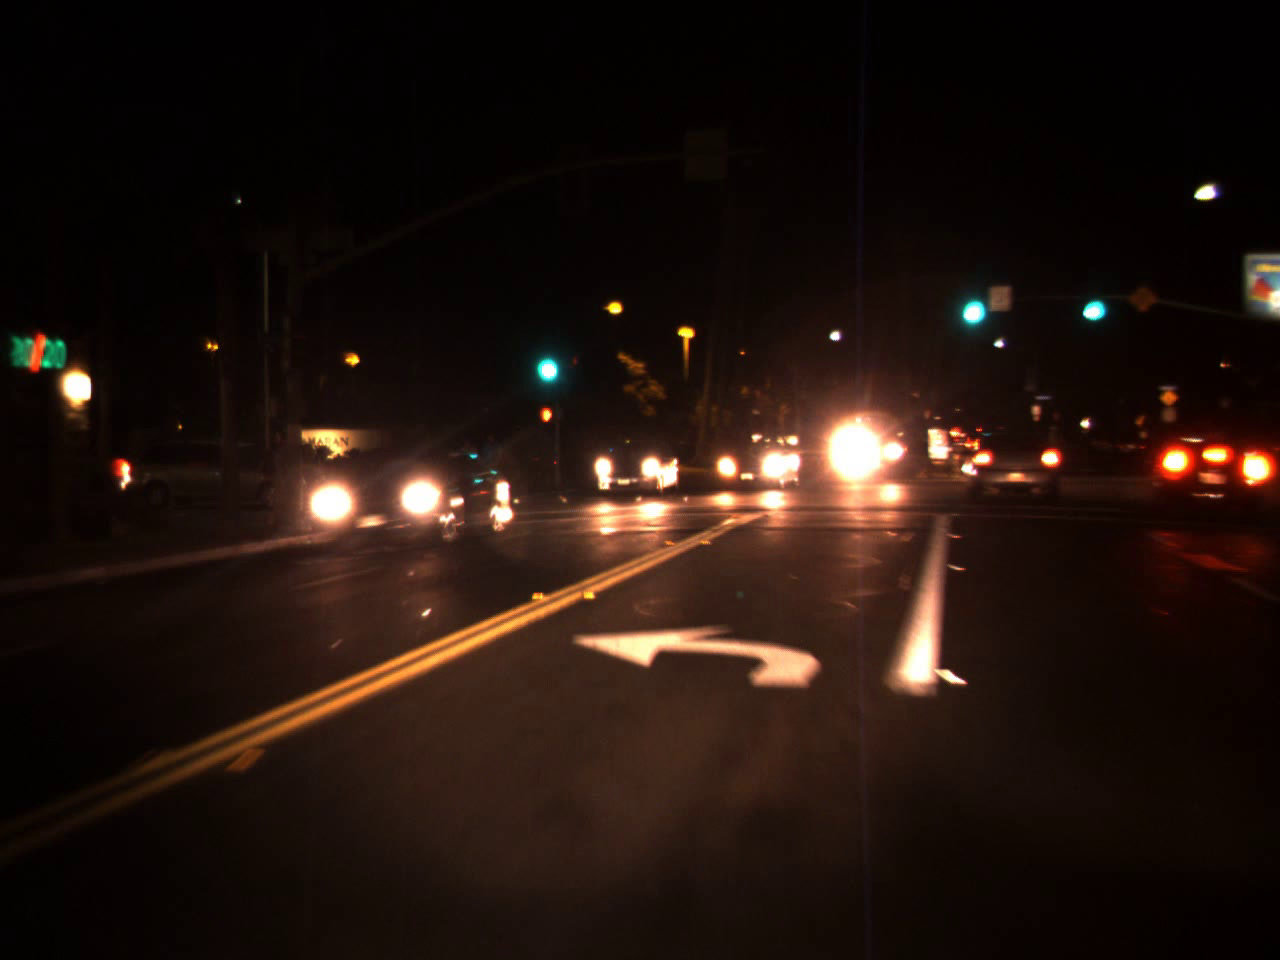go: (954, 270, 990, 333), (528, 328, 562, 391), (1077, 275, 1109, 329)
